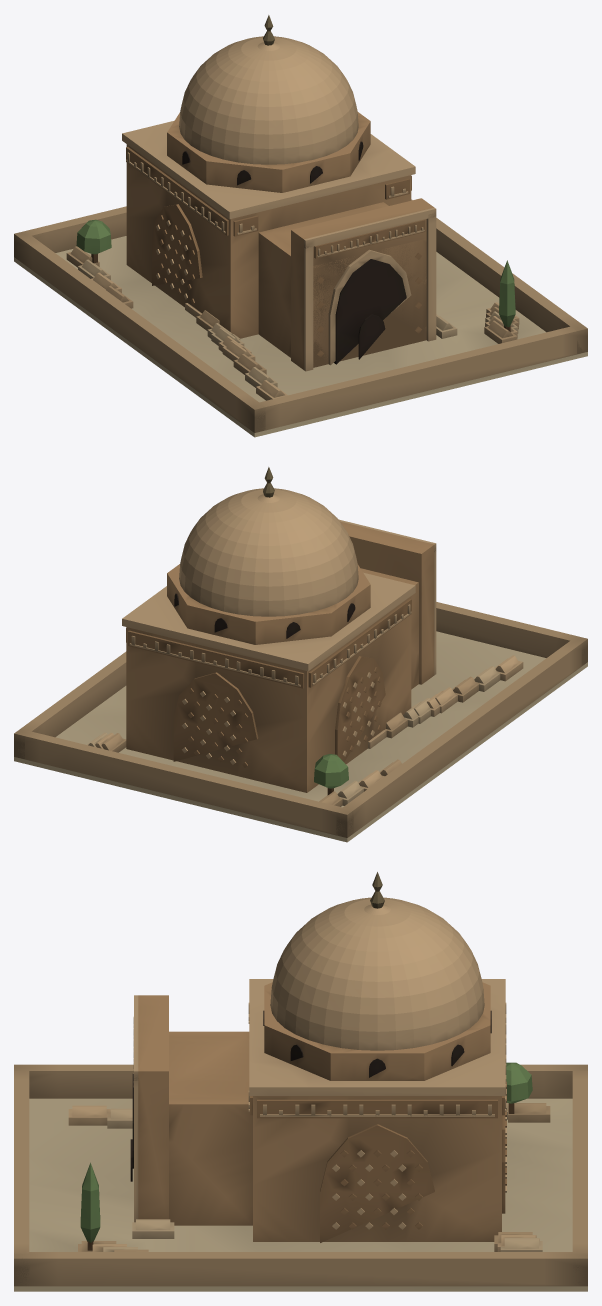
Rendered from muhammad-ibn-zayd.glb.
3 views of the same model, one above another, from view 1: azimuth 30°, elevation 25°; view 2: azimuth 150°, elevation 25°; view 3: azimuth 270°, elevation 25° (orthographic). The views are drawn at different scales.
Parts seen in each view (by area): view 1: p1_mausoleum, p0_court; view 2: p1_mausoleum, p0_court; view 3: p1_mausoleum, p0_court.
Part boxes in pixels (bbox=[...]): p1_mausoleum: bbox=[122, 15, 436, 371]; p0_court: bbox=[14, 199, 587, 437]; p1_mausoleum: bbox=[122, 467, 436, 792]; p0_court: bbox=[14, 602, 587, 842]; p1_mausoleum: bbox=[130, 872, 506, 1242]; p0_court: bbox=[14, 1062, 587, 1291].
Size of the model in its own units: 24 by 18.63 by 30.
